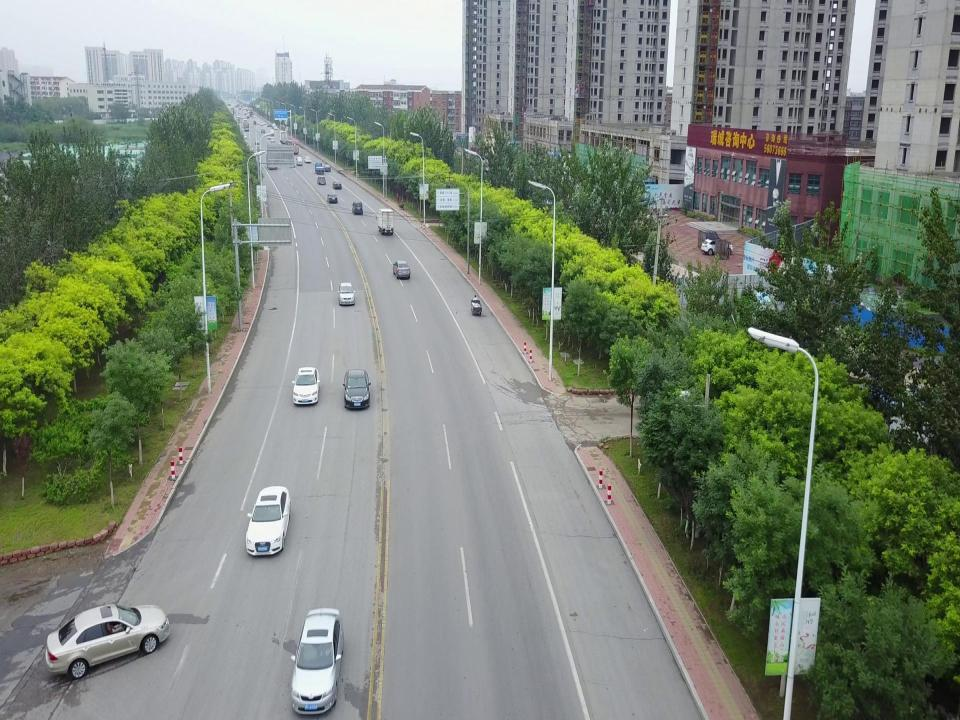bus: (286, 138, 300, 154), (243, 118, 249, 130), (237, 116, 241, 123)
car: (47, 604, 170, 681), (292, 606, 344, 714), (245, 485, 291, 556), (344, 371, 372, 409), (292, 366, 319, 404), (702, 238, 734, 255), (338, 282, 356, 305), (392, 260, 411, 280), (351, 200, 363, 215), (327, 193, 338, 203), (316, 175, 326, 185), (332, 180, 342, 189), (322, 164, 330, 171), (304, 156, 311, 164), (255, 138, 259, 144), (270, 137, 274, 142), (261, 128, 265, 133), (274, 126, 278, 130), (268, 135, 271, 139), (253, 121, 256, 124)
truck: (374, 208, 394, 235), (266, 153, 278, 169), (314, 161, 324, 174), (279, 131, 287, 144), (256, 118, 260, 125)
van: (296, 157, 302, 166), (270, 130, 274, 136), (272, 122, 276, 127)
